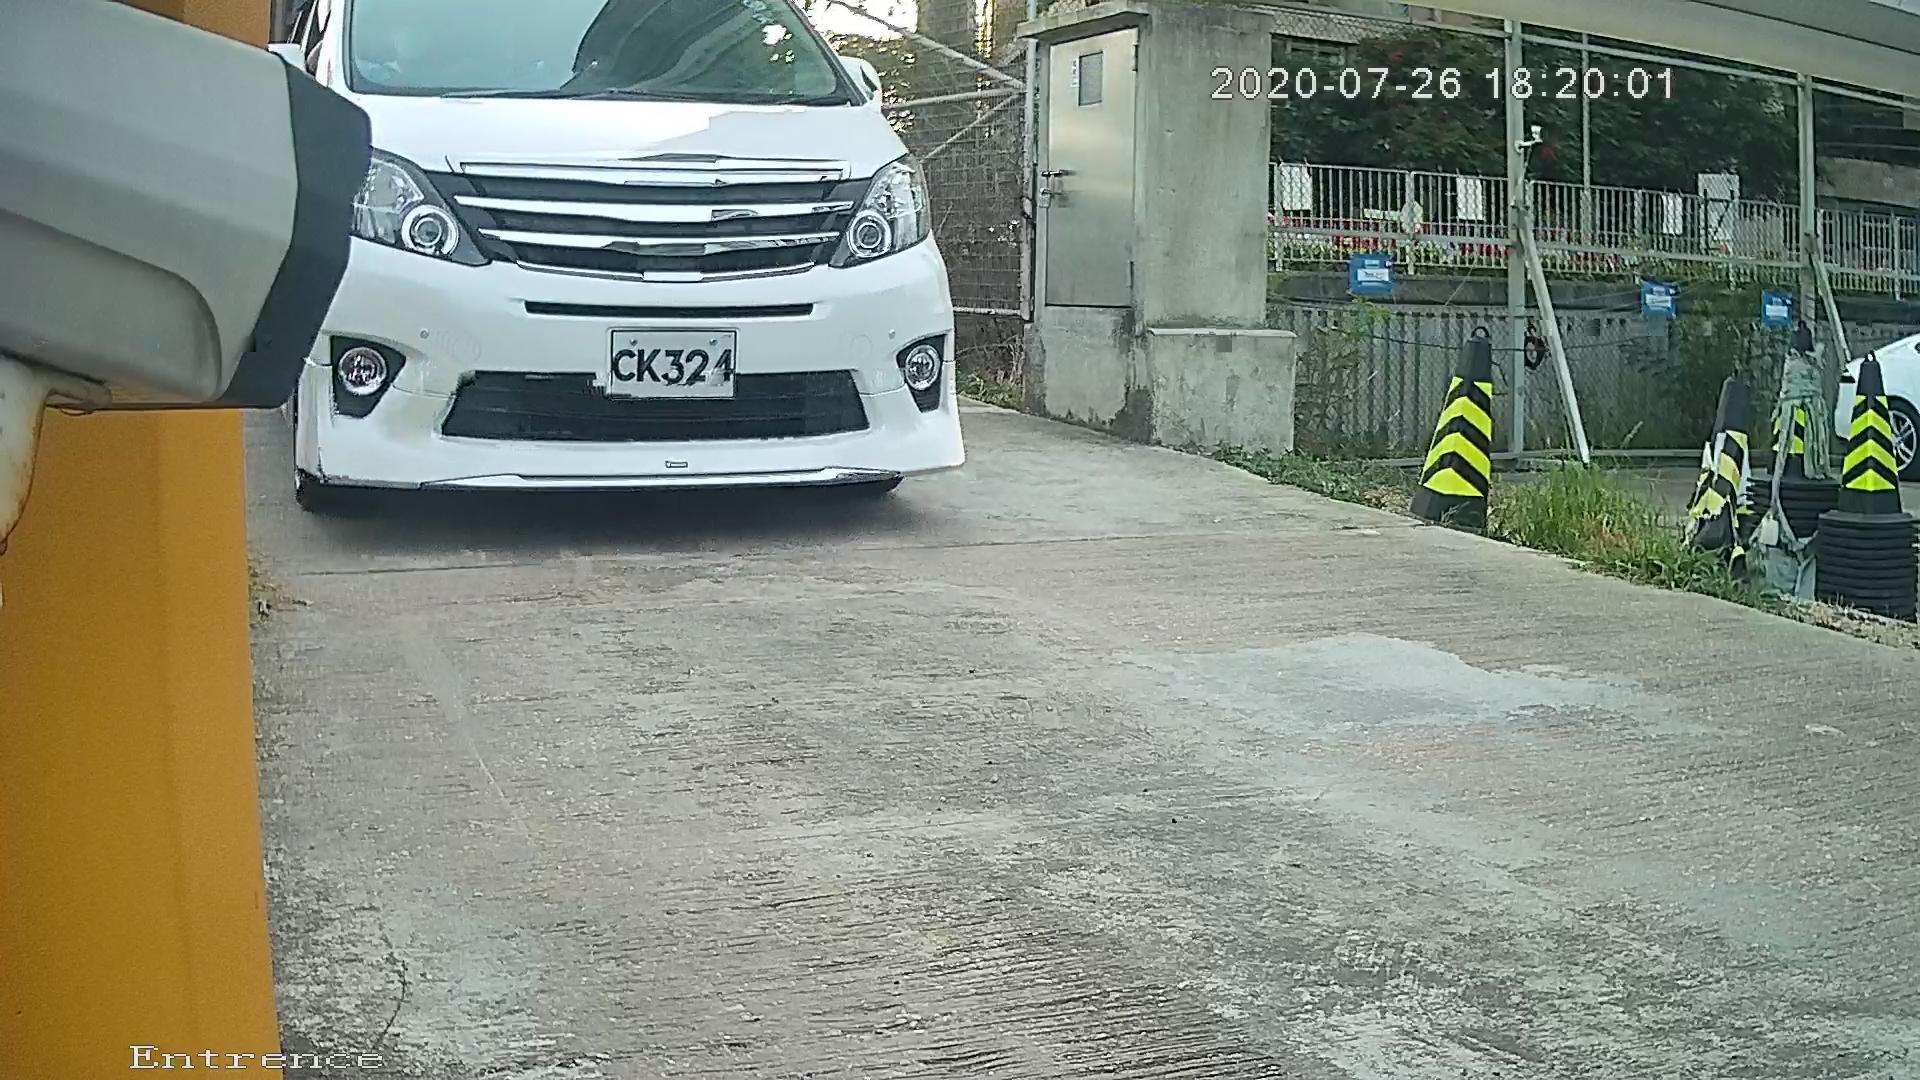License Plate: (575, 309, 746, 410)
